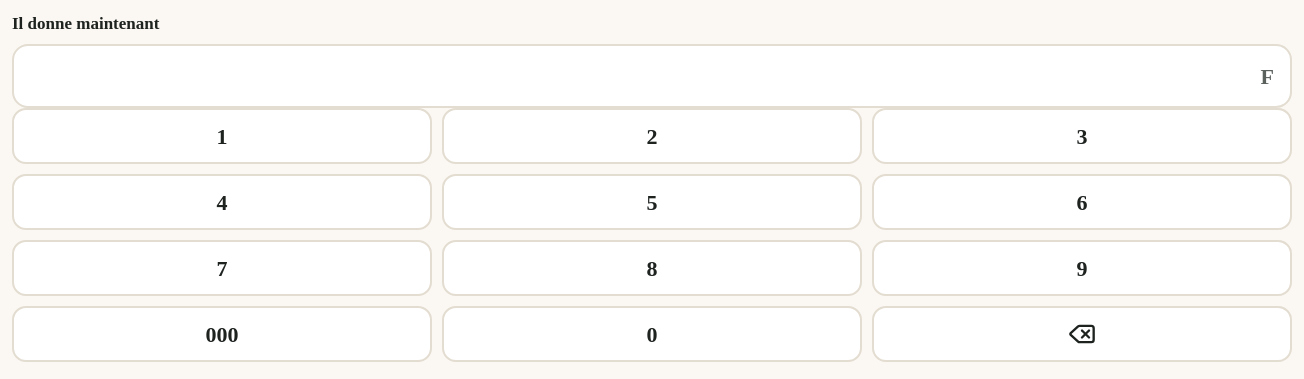
Scenario: champ montant et pavé numérique › se tape librement au clavier
Type "7a5 00" into the field labelled "Il donne maintenant".
click(652, 76); type("7a5 00")  # box left=12, top=44, right=1292, bottom=108
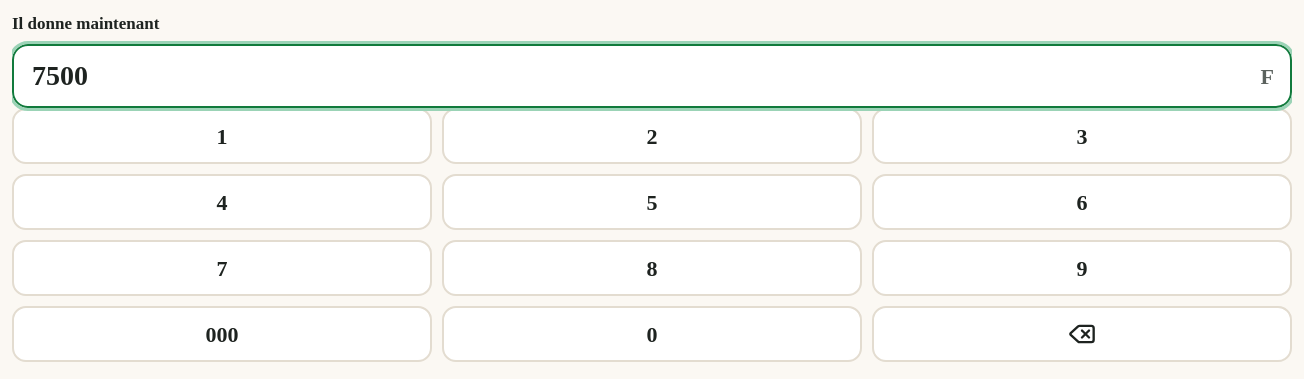
expect the field labelled "Il donne maintenant" holds "7500": met, box left=12, top=44, right=1292, bottom=108
